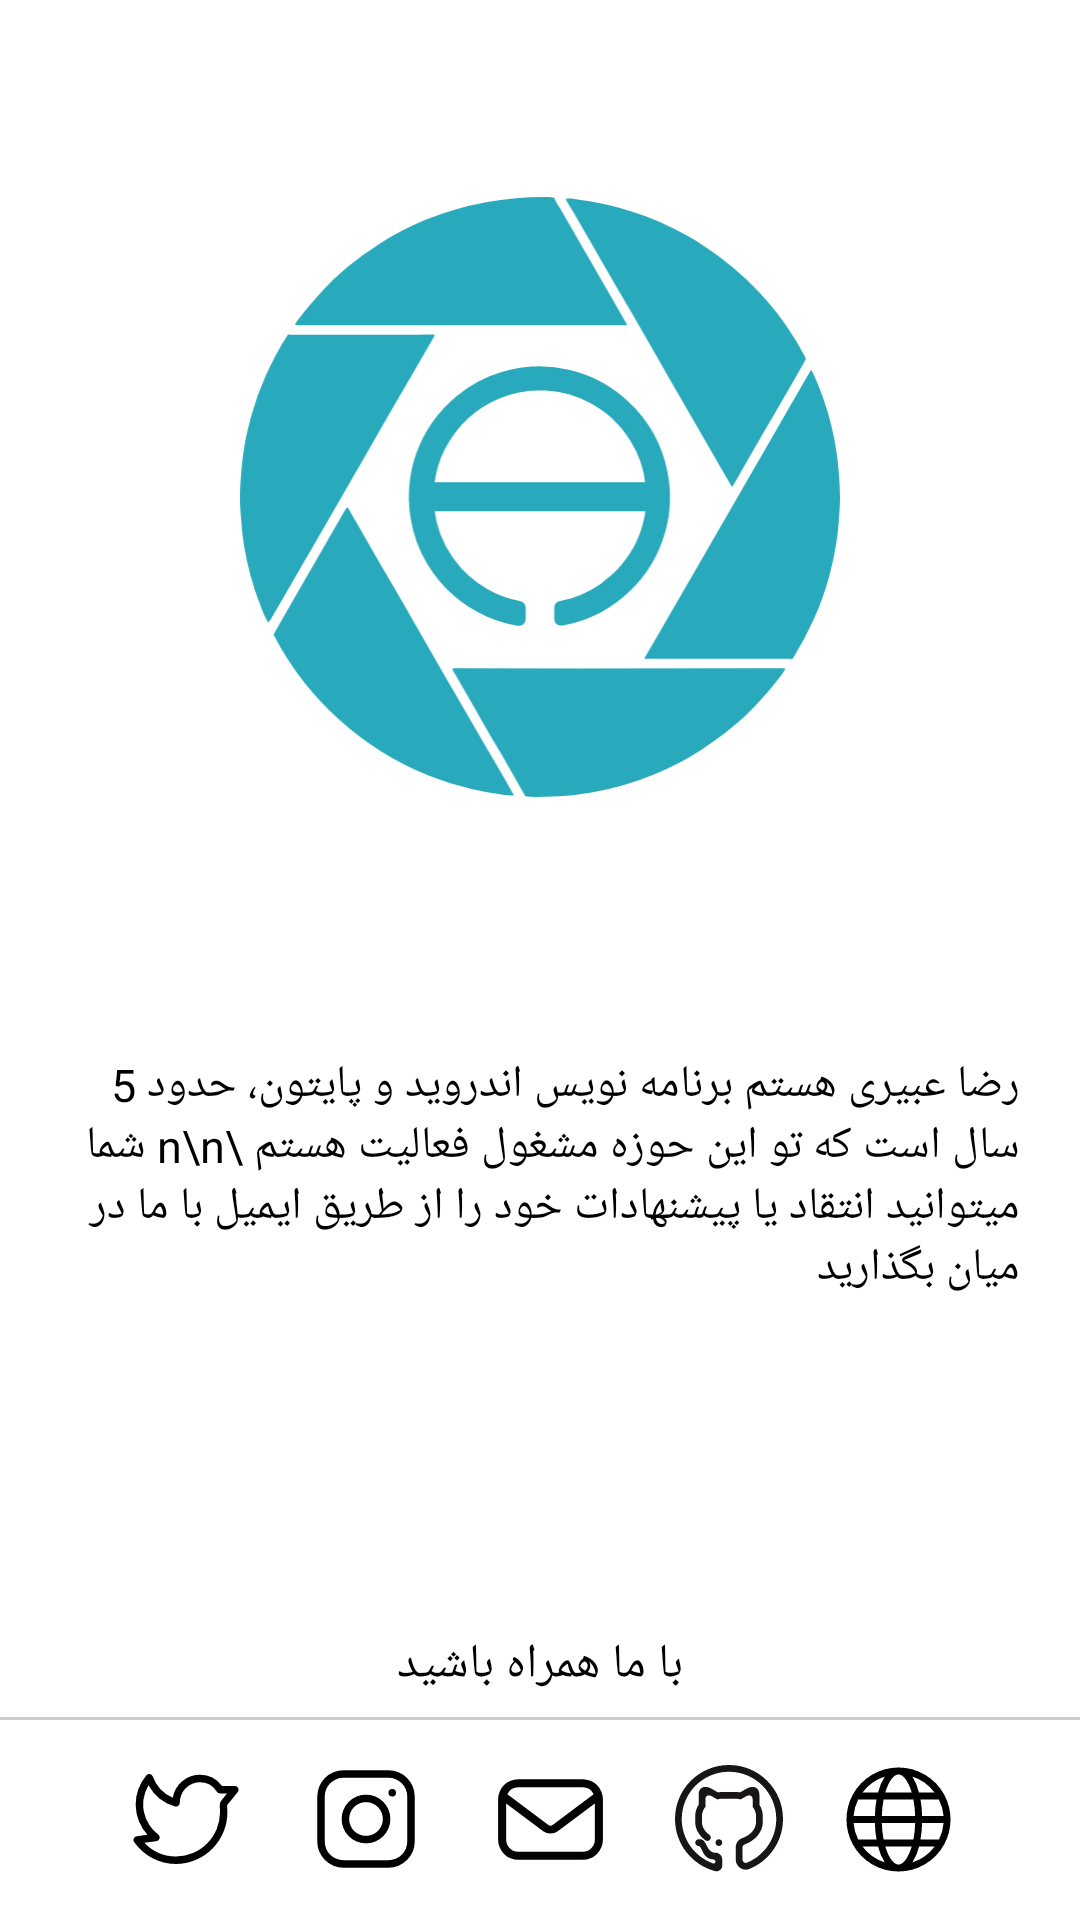

Screen size 1080px×1920px. Icon name, then its box in pixels as region(x1, y1, x2, y2):
mail: region(498, 1779, 603, 1860)
website: region(846, 1767, 951, 1872)
